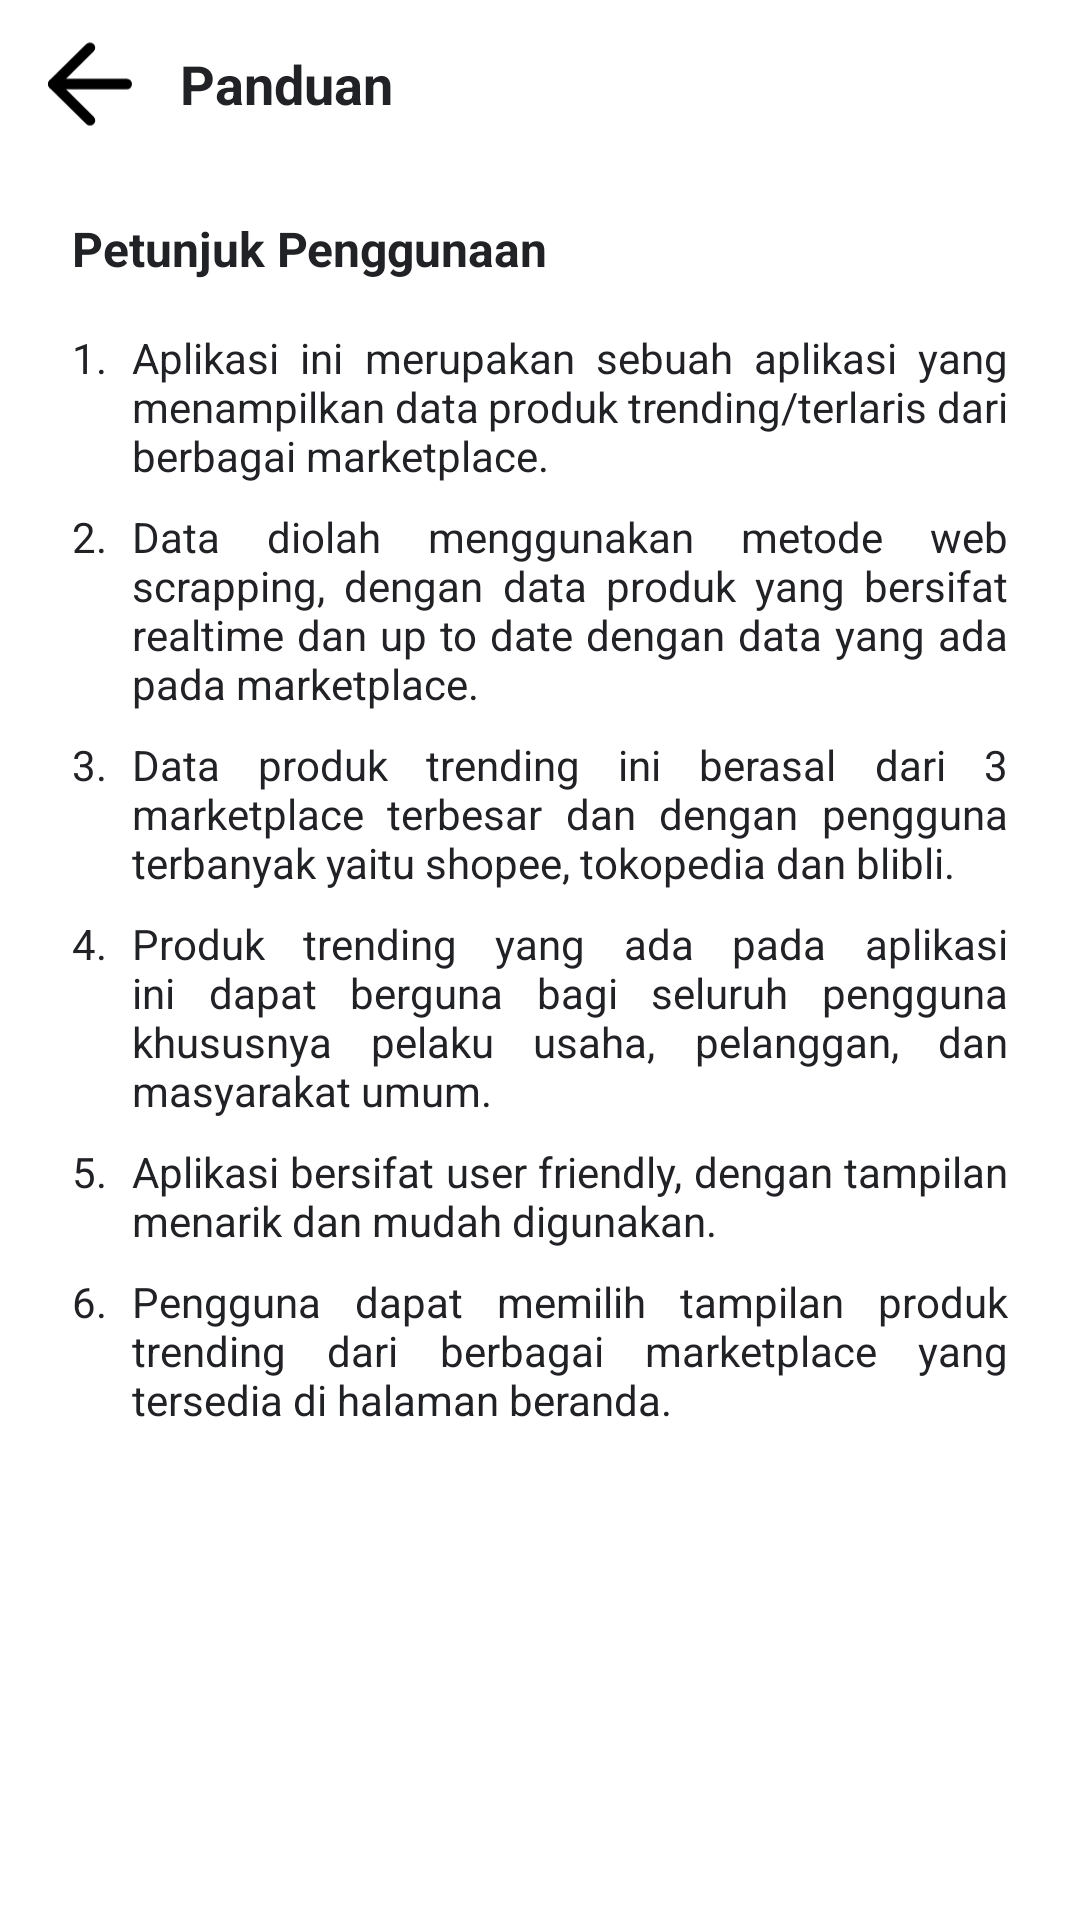

Where icons sit on this 1080 × 1920 app screen, as rect(x1, y1, x2, y2):
Kembali: rect(48, 42, 132, 126)
